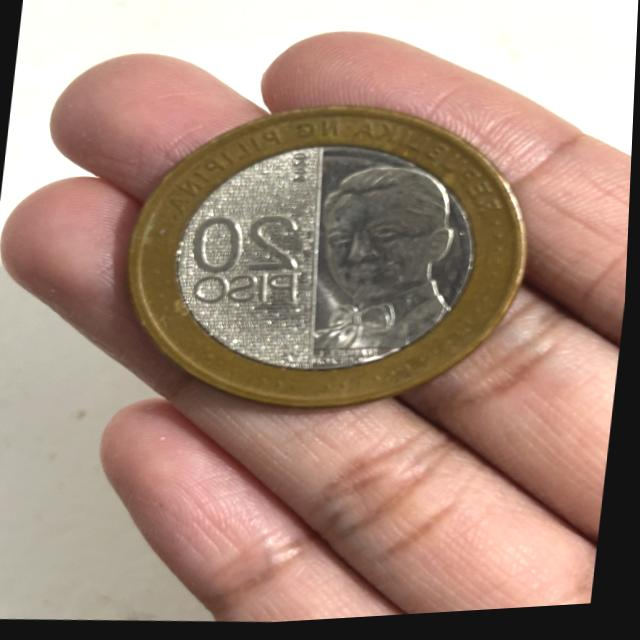20_New_Front: (180, 203, 322, 326)
